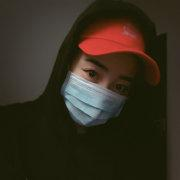OK: (67, 55, 138, 126)
